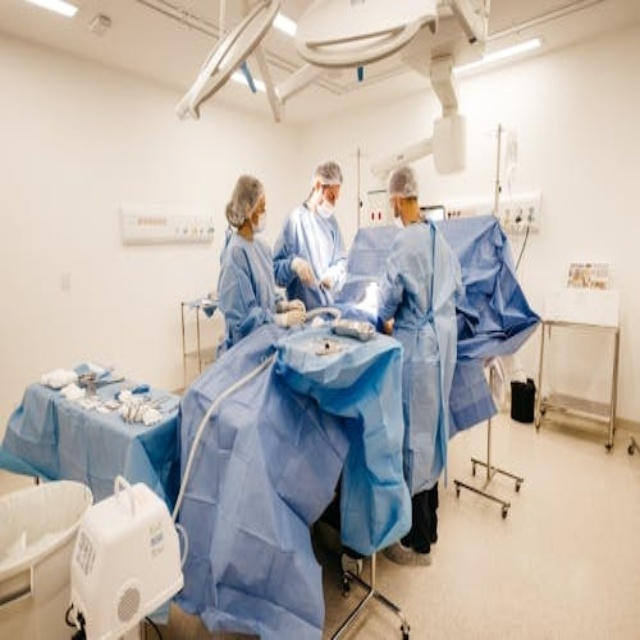Guantes: (278, 294, 307, 329), (288, 250, 314, 284)
Mascara: (316, 185, 338, 221), (247, 206, 266, 229)
